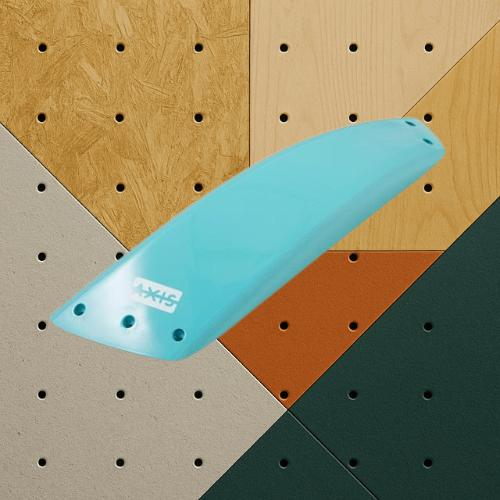Sloper: (48, 116, 447, 364)
